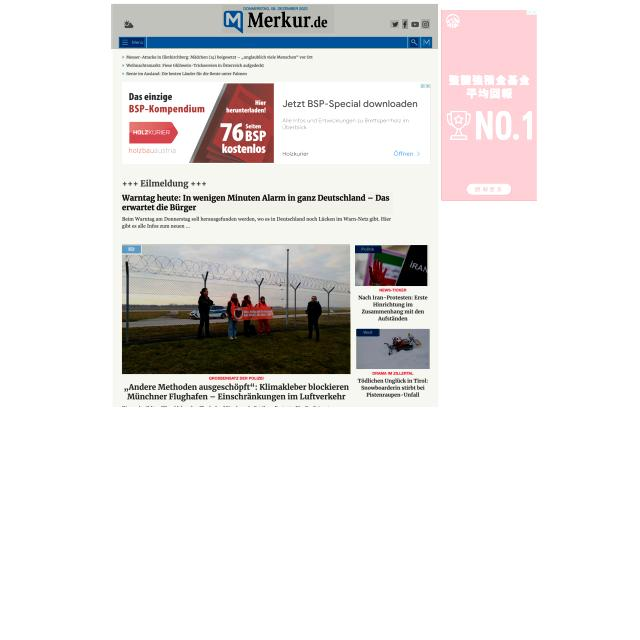ImageView: (122, 82, 430, 164), (442, 8, 538, 200)
RadioButton: (122, 245, 142, 255), (356, 246, 384, 253), (356, 329, 380, 336)
bag: (111, 4, 438, 49)
carousel: (410, 20, 420, 29), (421, 19, 430, 29), (410, 38, 418, 47), (390, 20, 399, 28), (402, 19, 408, 29)
copy: (122, 244, 350, 374), (356, 245, 430, 286), (356, 329, 430, 369)
date picker: (222, 5, 334, 33)
decoration: (120, 38, 144, 47)
image: (120, 192, 393, 214)
